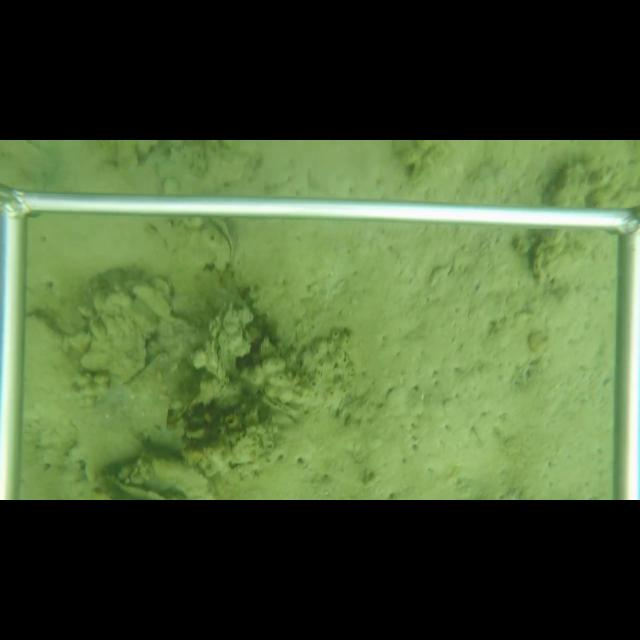Oyster-Closed: (79, 299, 147, 386), (115, 456, 213, 500), (529, 245, 546, 283)
Oyster-Open: (201, 305, 252, 385), (196, 218, 236, 272)
